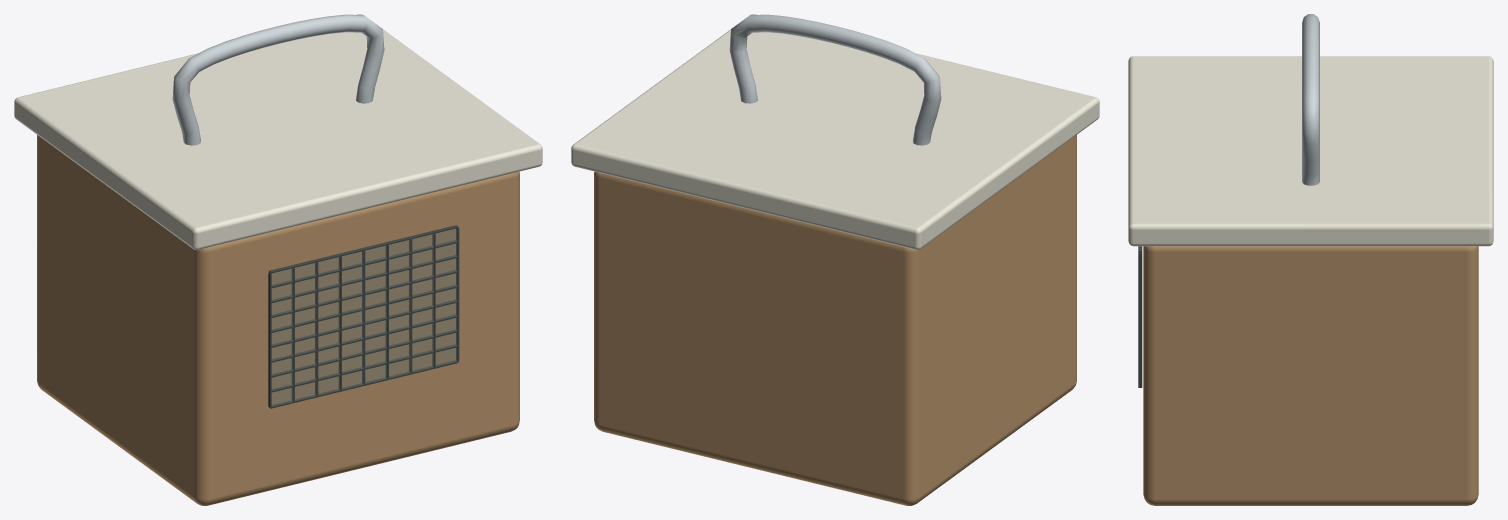
Rendered from beekeeping-and-honey-farm-swarm-capture-box-3d4435df__30709.glb.
3 views of the same model, side by side, from view 1: azimuth 30°, elevation 25°; view 2: azimuth 150°, elevation 25°; view 3: azimuth 270°, elevation 25° (orthographic).
Visible parts, largest first — view 1: swarm-capture-box; view 2: swarm-capture-box; view 3: swarm-capture-box.
Boxes of the visible parts, x1,y1,x2,y2 form: swarm-capture-box: (14, 14, 542, 505); swarm-capture-box: (571, 14, 1099, 505); swarm-capture-box: (1128, 14, 1493, 505).
Bounding box in the file's own units: 0.41 × 0.4298 × 0.37.
